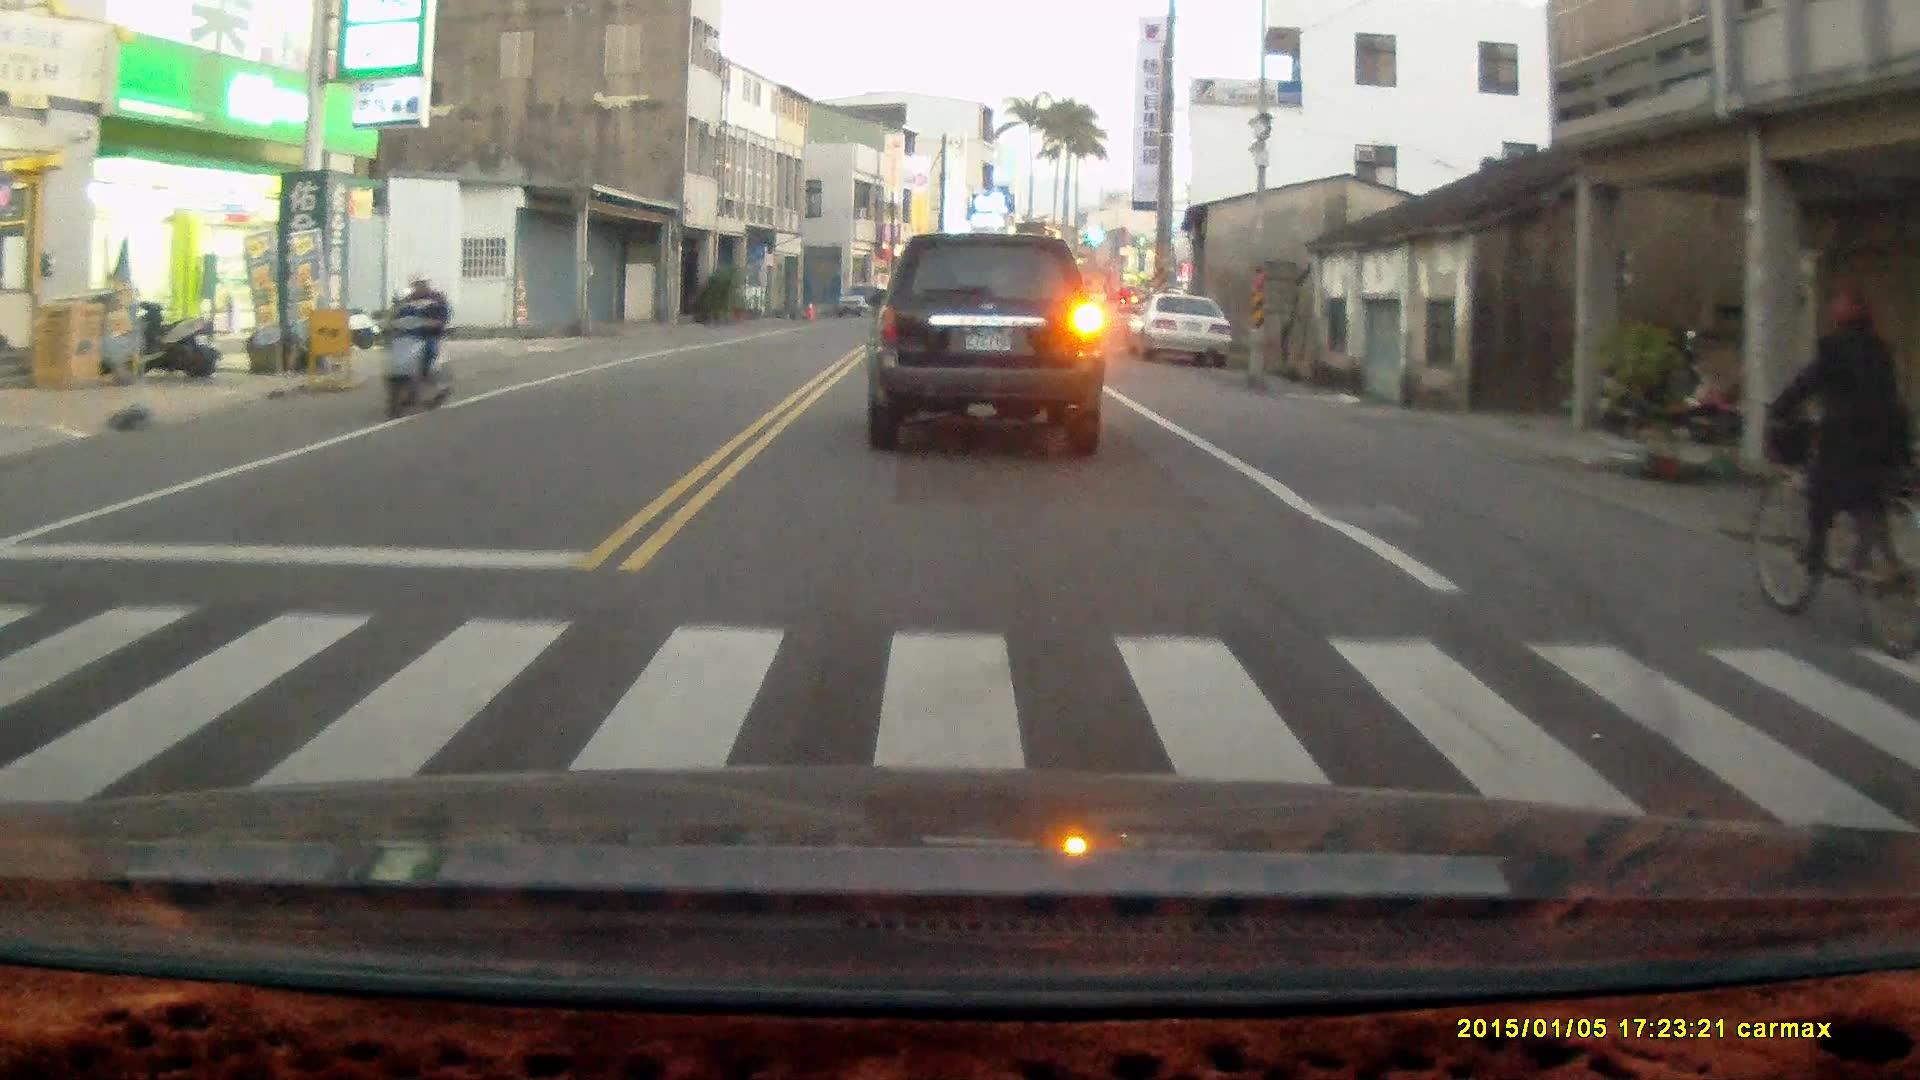rider: (1748, 286, 1920, 649), (370, 266, 456, 420)
vehicle: (864, 232, 1107, 457), (1128, 295, 1237, 366)
